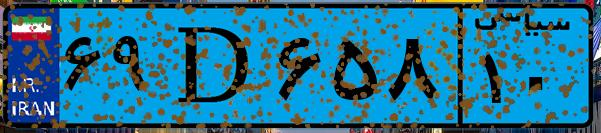0: (525, 38, 570, 115)
1: (475, 38, 525, 113)
5: (330, 28, 385, 110)
6: (270, 28, 330, 110), (57, 26, 110, 100)
8: (385, 28, 445, 110)
9: (110, 28, 158, 98)
D: (158, 12, 270, 120)
